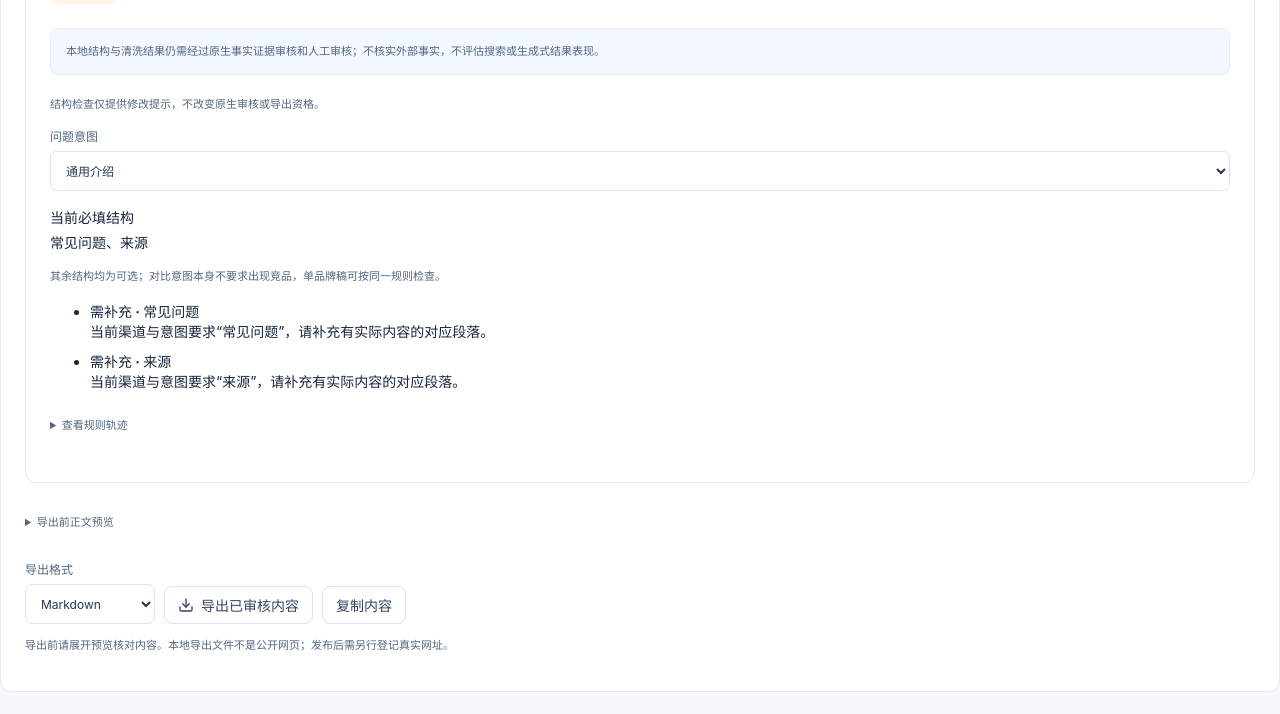
does not copy when the native gate rejects newly expired source facts
(page scrolled)
Step 1. Click the button "复制内容" → (364, 605), box [322,586,406,624]
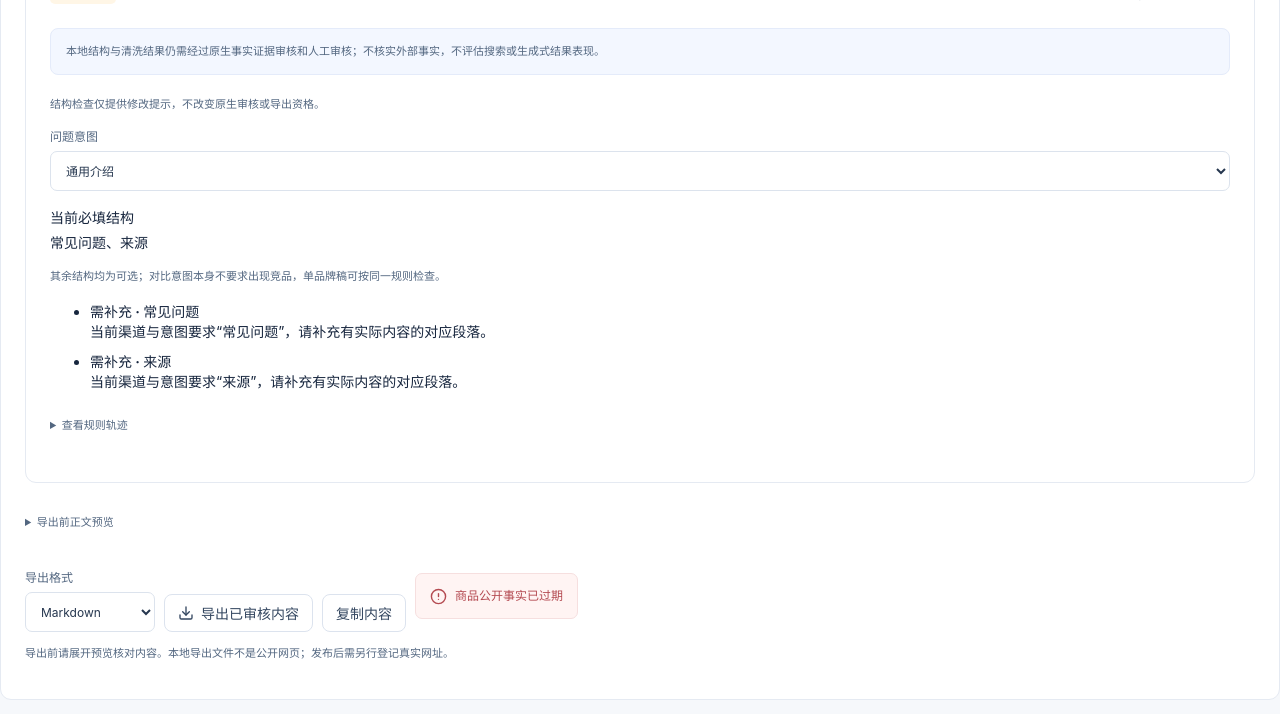
Now the message reads "商品公开事实已过期", box [455,588,563,603]
